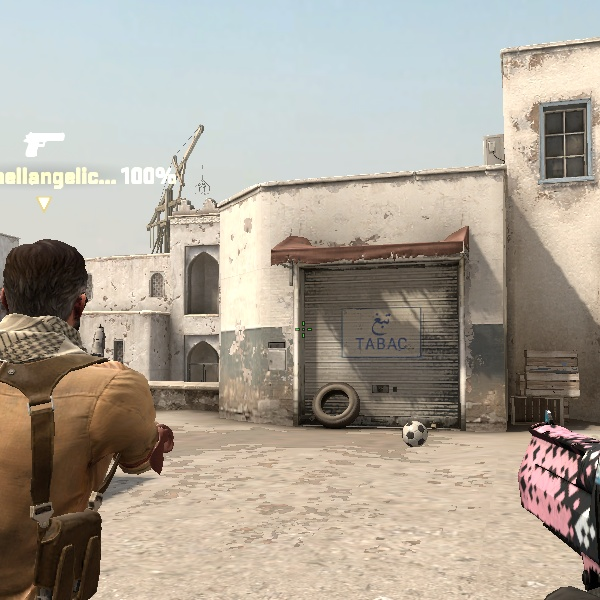t_body: (1, 226, 187, 593)
t_head: (0, 224, 114, 359)
